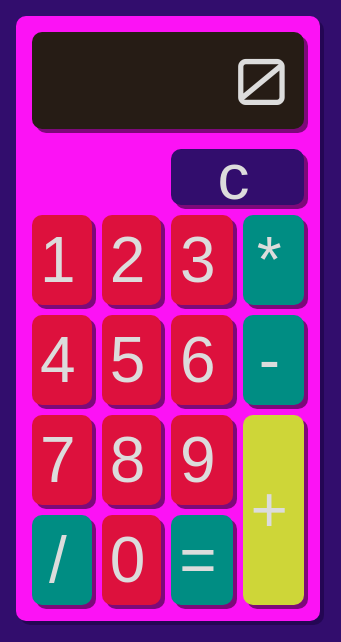
Test case: Calculator › Deve somar corretamente
This screenshot has width=341, height=642.
Click the button with test id "button-5".
click(132, 360)  # box [102,315,162,405]
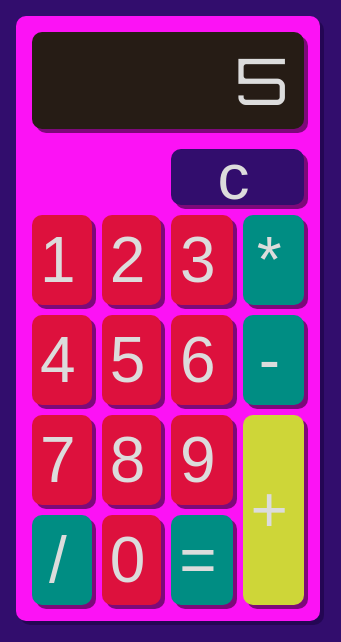
Click the button "+".
click(274, 510)  # box [243,415,304,605]
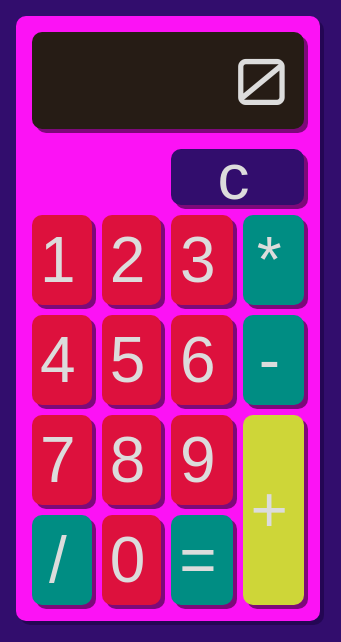
Click the button with test id "button-3".
click(202, 260)  # box [171,215,232,305]
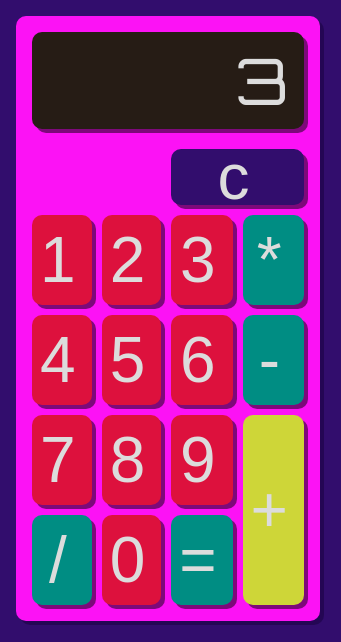
Click the button "=".
click(202, 560)  # box [171,515,232,605]
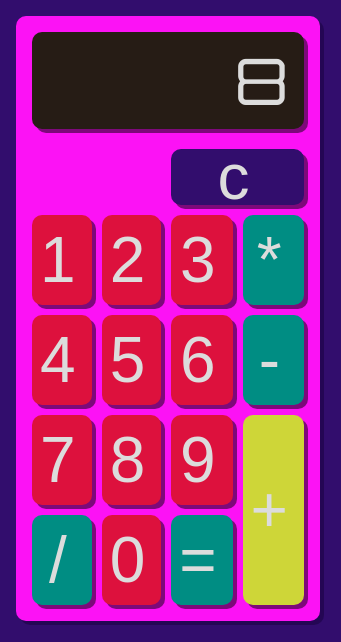
Expected: the text with test id "display" reads "8", [32,32,304,129]
